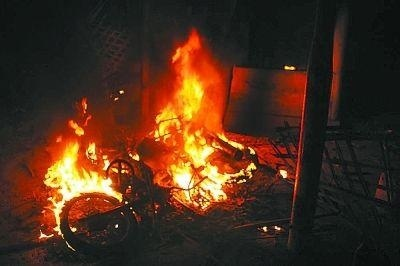fire: (144, 31, 248, 210), (40, 102, 123, 230)
